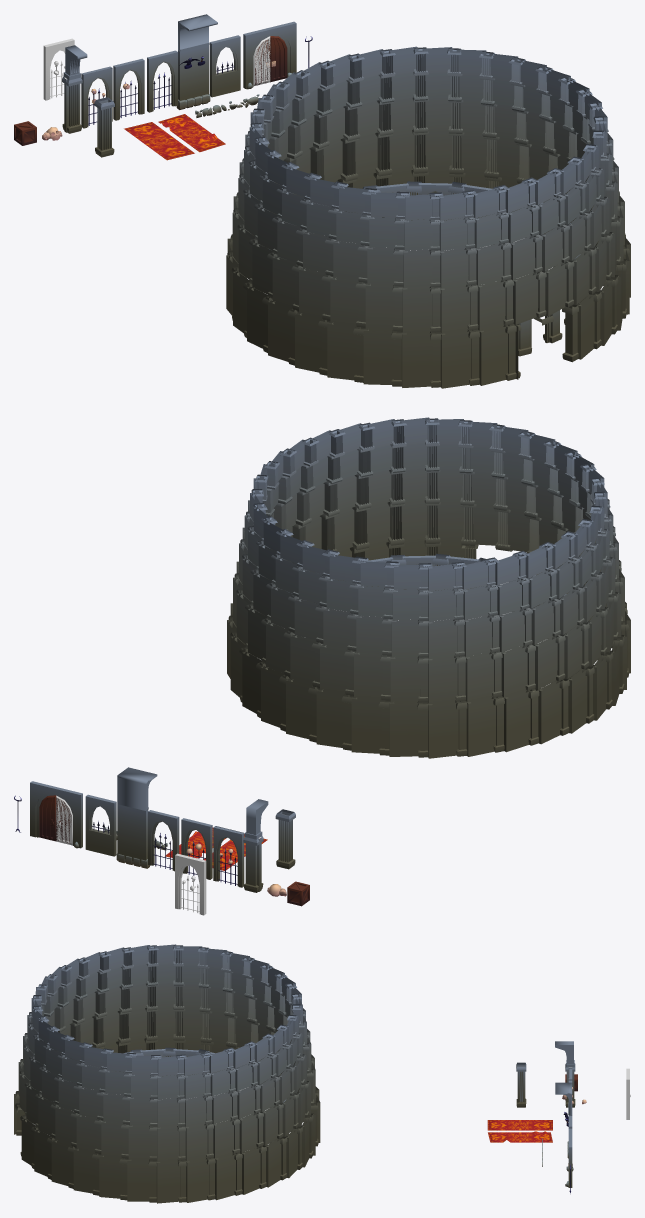
The model's file is WRLD_BLEND_ASSET_KIT_V4.fbx.
3 renders of one model, top to bottom at view 1: azimuth 30°, elevation 25°; view 2: azimuth 150°, elevation 25°; view 3: azimuth 270°, elevation 25°, orthographic. The views are drawn at different scales.
Visible parts, largest first — view 1: Cube.025, Cube.024, Cube.007, Cylinder.003, Cube.001, Plane, Plane.001, Cube.022, Cube.002, Cube.020, Cube.026, Cube.003 (+5 smaller); view 2: Cube.025, Cube.001, Cube.007, Cylinder.003, Cube.005, Cube.022, Cube.003, Cube.020, Cube.026, Cube.002, Cube.024, Cube.008 (+2 smaller); view 3: Cube.025, Plane, Plane.001, Cube.024, Cube.026.
Part boxes in pixels (bbox=[...]): Cube.025: bbox=[226, 46, 630, 388]; Cube.024: bbox=[269, 181, 585, 356]; Cube.007: bbox=[243, 21, 296, 88]; Cylinder.003: bbox=[209, 35, 240, 97]; Cube.001: bbox=[178, 45, 208, 100]; Plane: bbox=[124, 122, 194, 160]; Plane.001: bbox=[158, 114, 225, 152]; Cube.022: bbox=[178, 14, 217, 51]; Cube.002: bbox=[113, 58, 144, 120]; Cube.020: bbox=[147, 50, 177, 112]; Cube.026: bbox=[94, 97, 114, 157]; Cube.003: bbox=[81, 66, 112, 128]; Cube.025: bbox=[227, 417, 630, 758]; Cube.001: bbox=[117, 804, 148, 862]; Cube.007: bbox=[30, 781, 82, 848]; Cylinder.003: bbox=[85, 794, 116, 856]; Cube.005: bbox=[175, 853, 206, 915]; Cube.022: bbox=[117, 767, 157, 810]; Cube.003: bbox=[213, 826, 244, 887]; Cube.020: bbox=[148, 810, 179, 871]; Cube.026: bbox=[275, 809, 295, 869]; Cube.002: bbox=[181, 818, 212, 879]; Cube.024: bbox=[287, 553, 577, 677]; Cube.008: bbox=[39, 795, 55, 841]; Cube.025: bbox=[14, 944, 320, 1203]; Plane: bbox=[487, 1120, 552, 1130]; Plane.001: bbox=[488, 1131, 552, 1142]; Cube.024: bbox=[90, 1047, 288, 1141]; Cube.026: bbox=[516, 1062, 526, 1107].
Bounding box in the file's own units: 2059 × 1041 × 4145.
